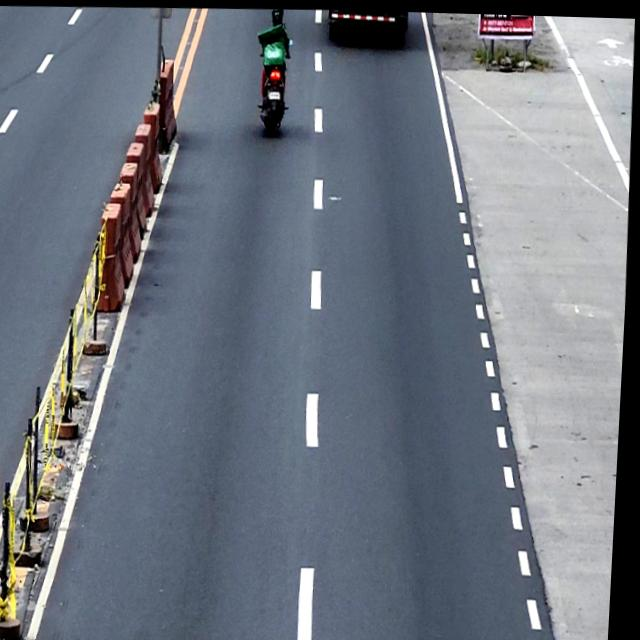License-Plate: (269, 89, 282, 98)
Motorcycle: (253, 31, 294, 135)
Truck: (326, 8, 408, 41)
